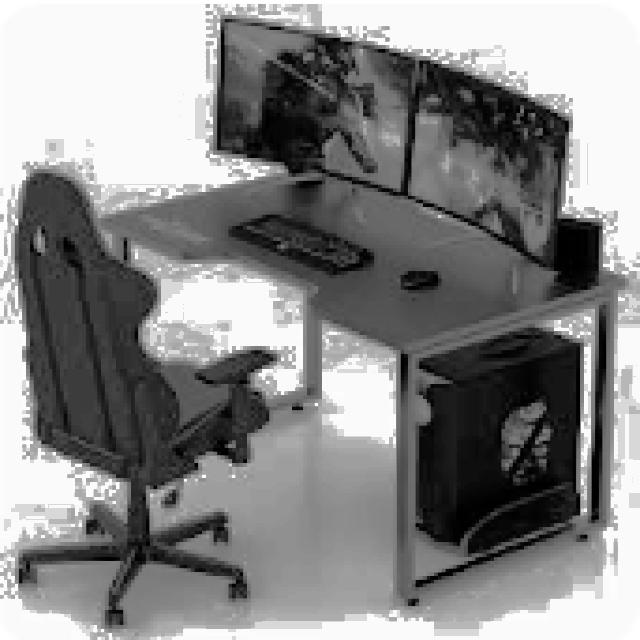book: (11, 166, 277, 625)
table: (94, 166, 625, 602)
